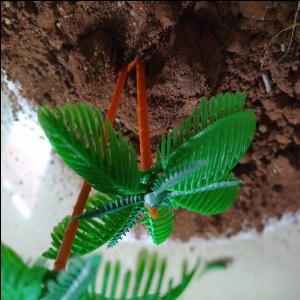plant: (1, 55, 258, 300)
